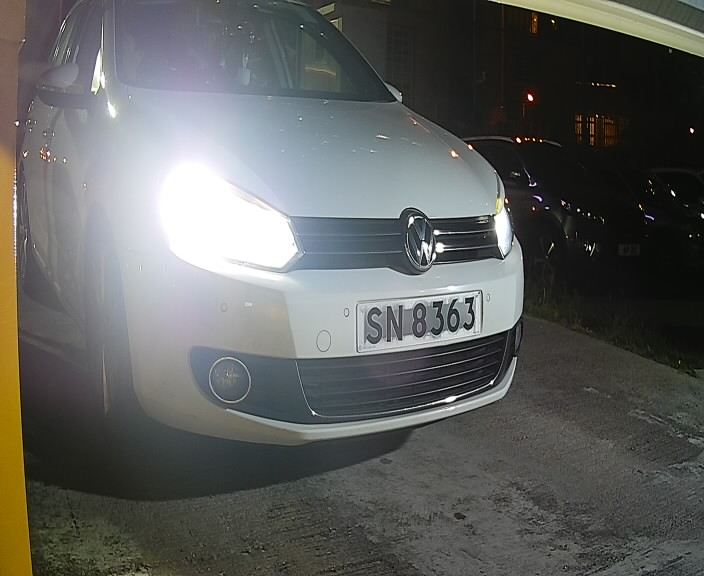Car: (14, 2, 537, 474)
License Plate: (337, 281, 497, 359)
